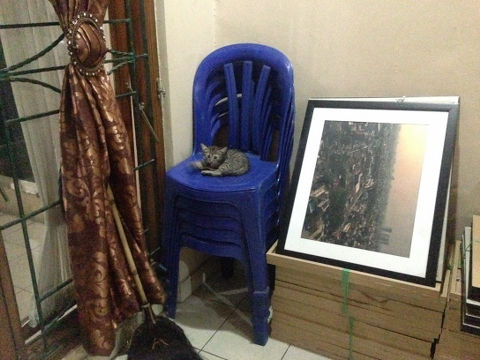kursi: (162, 43, 294, 295)
